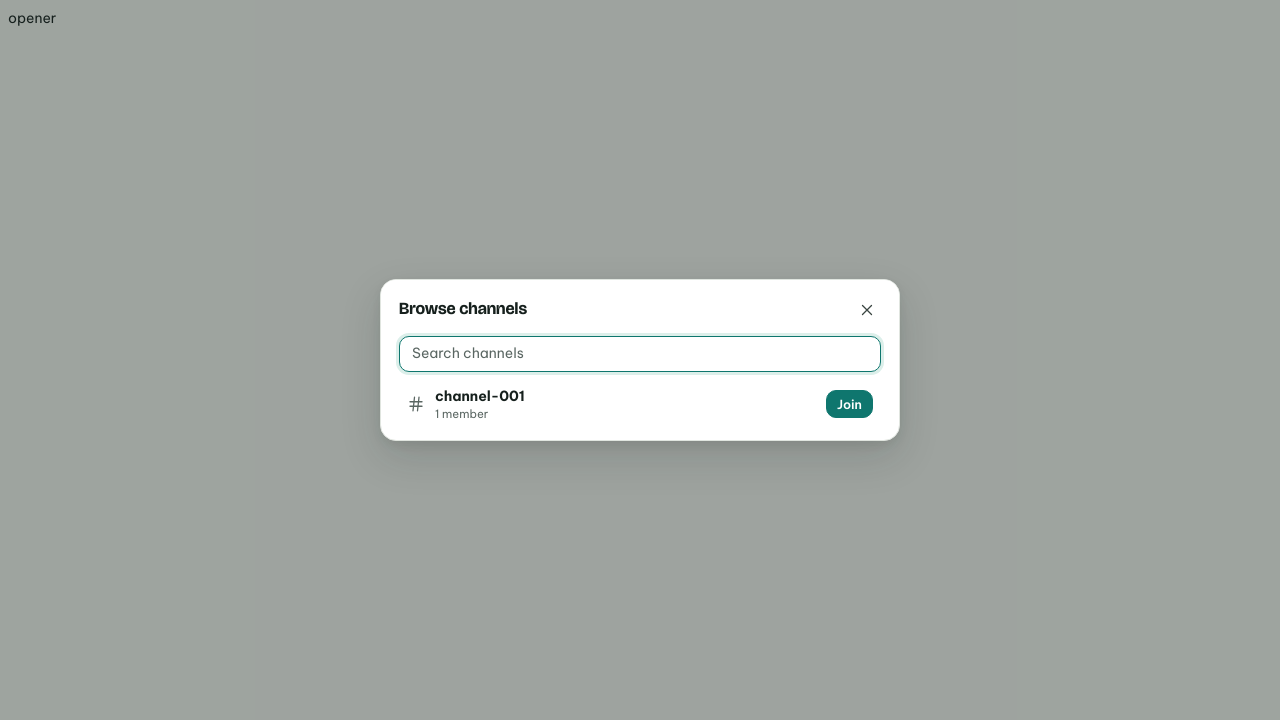
it: BrowseChannelsDialog (TOKI-034 R4 to R15) › Join: the dialog closed while the call is held still updates the store and shows the toast, and does not navigate
Click the button "Join" at (849, 404), box [826,390,873,418]
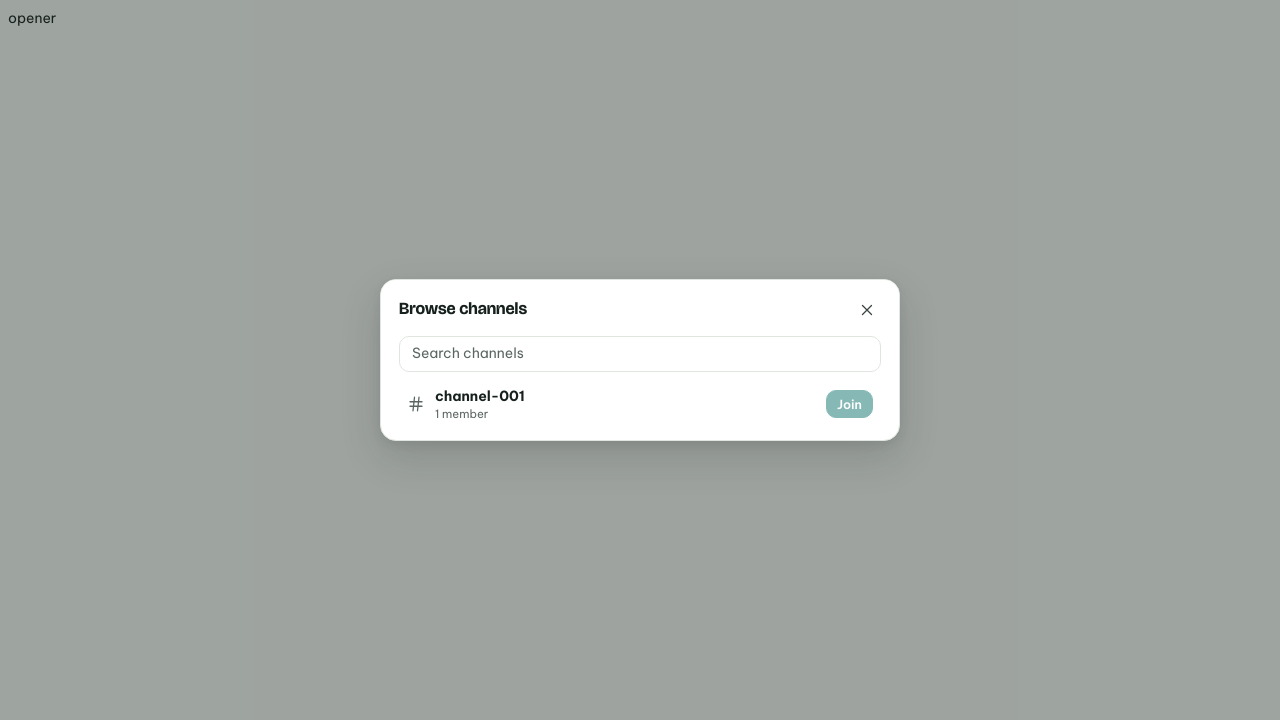
Press Escape
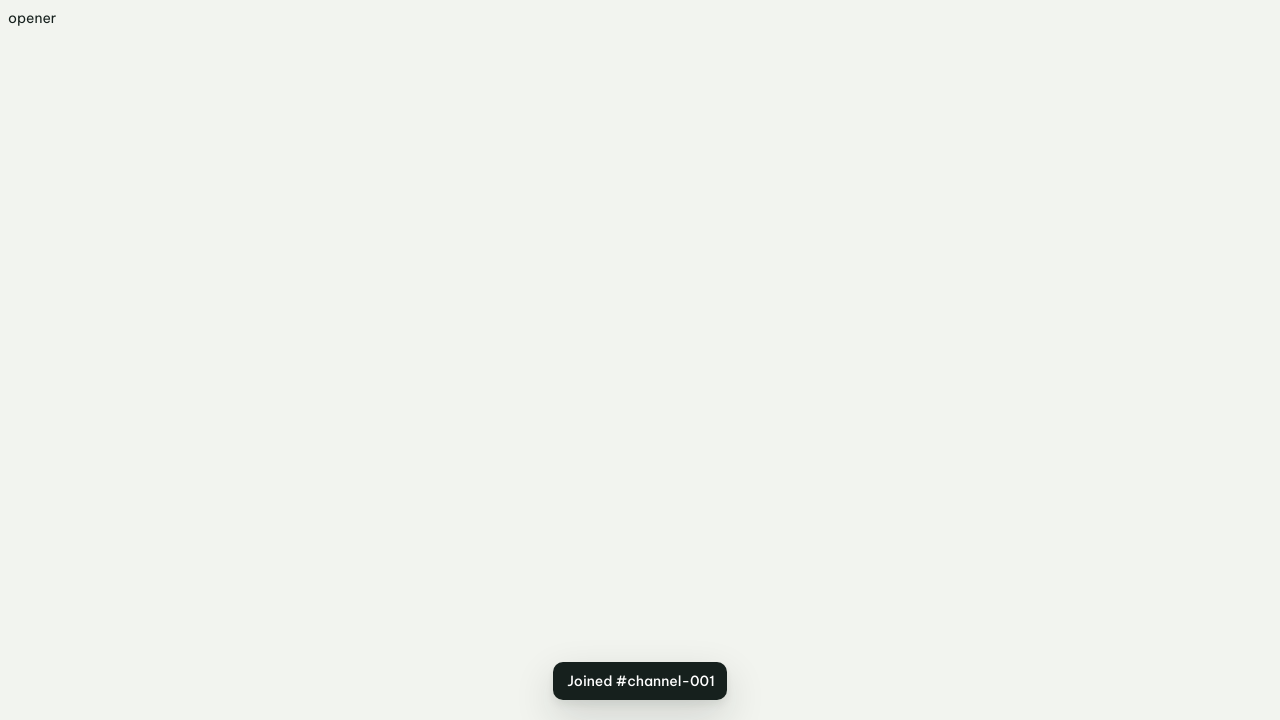
expect the dialog is gone: met
expect the text "Joined #channel-001" is shown: met, box [567,671,715,691]
